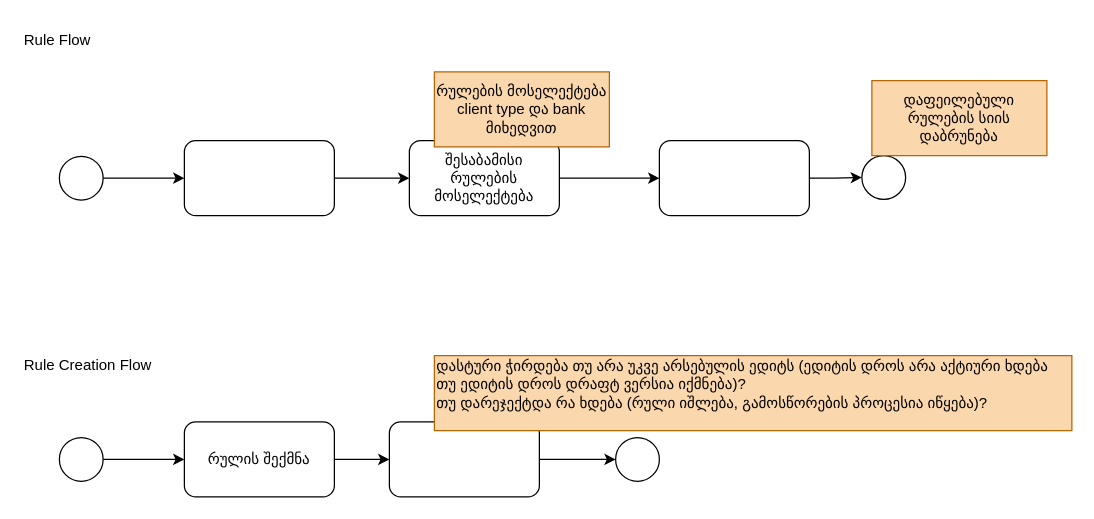
This 1094x519 diagram has some shape labels left out. The box of each missing label's shape, as (x1, y1, x2, y2) in pixels:
???დასტურის პროცესი: (388, 421, 539, 497)
input object-ის რულების მიმართ შემოწმება: (658, 139, 809, 216)
მონაცემების შეგროვება input object-ისთვის: (183, 139, 334, 216)
